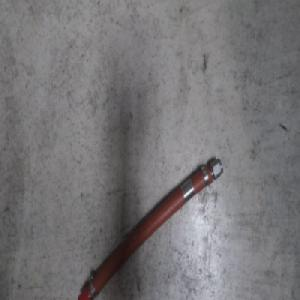Hose: (76, 154, 223, 300)
